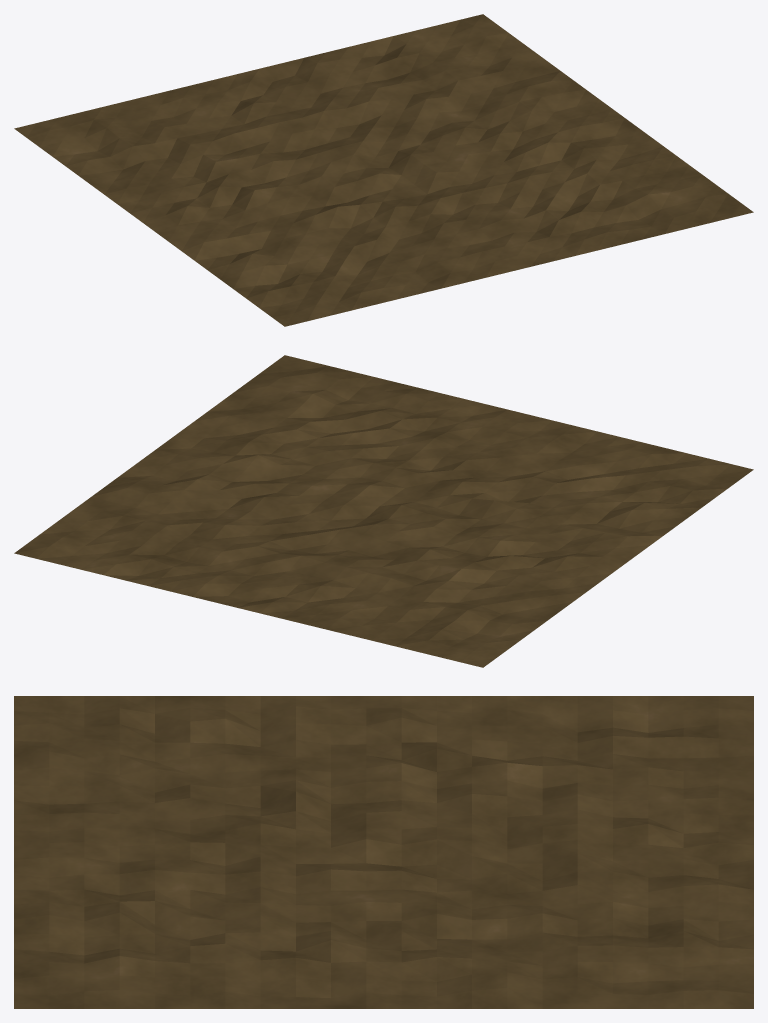
The model's file is Dirt.glb.
3 renders of one model, top to bottom at view 1: azimuth 30°, elevation 25°; view 2: azimuth 150°, elevation 25°; view 3: azimuth 270°, elevation 25°, orthographic. The views are drawn at different scales.
Visible parts, largest first — view 1: MeshInstance3D.001; view 2: MeshInstance3D.001; view 3: MeshInstance3D.001.
Boxes of the visible parts, left/top/right/bottom form: MeshInstance3D.001: left=14, top=14, right=753, bottom=326; MeshInstance3D.001: left=14, top=355, right=753, bottom=667; MeshInstance3D.001: left=14, top=696, right=753, bottom=1008.
Size of the model in its own units: 5 by 0.1283 by 5.
1 material, 1 textured.
